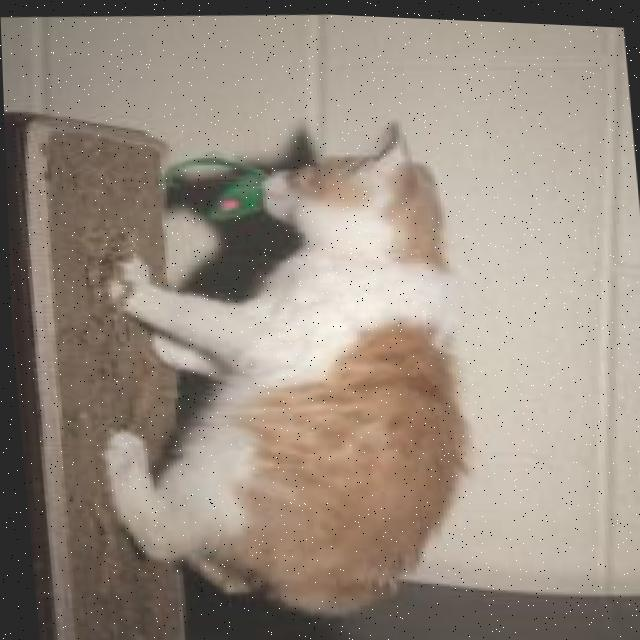American Bobtail: (66, 101, 486, 631)
